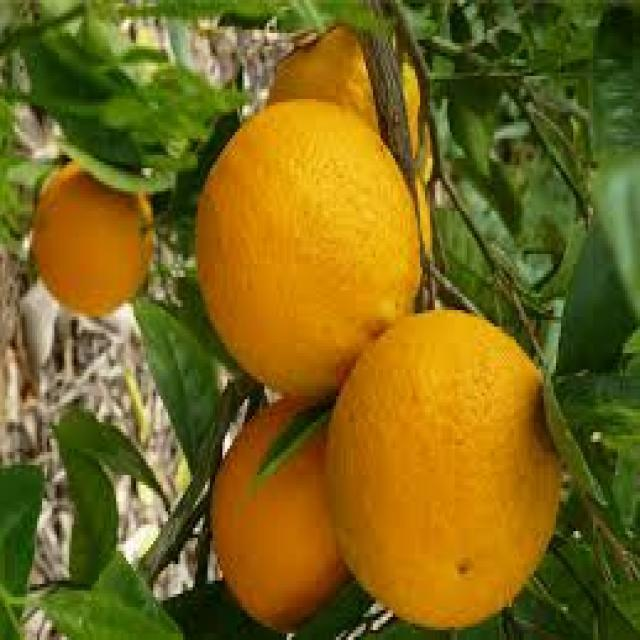non-mango: (180, 22, 579, 637), (4, 96, 171, 334)
